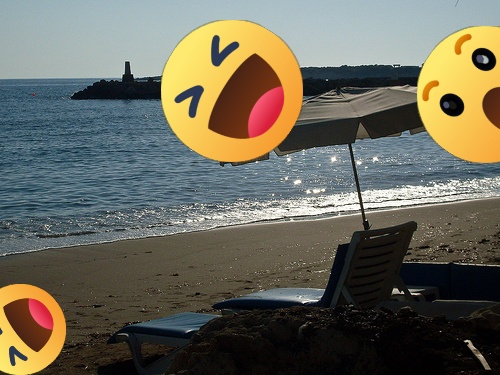haha: (161, 20, 303, 162), (0, 284, 66, 375)
wow: (417, 26, 500, 163)
